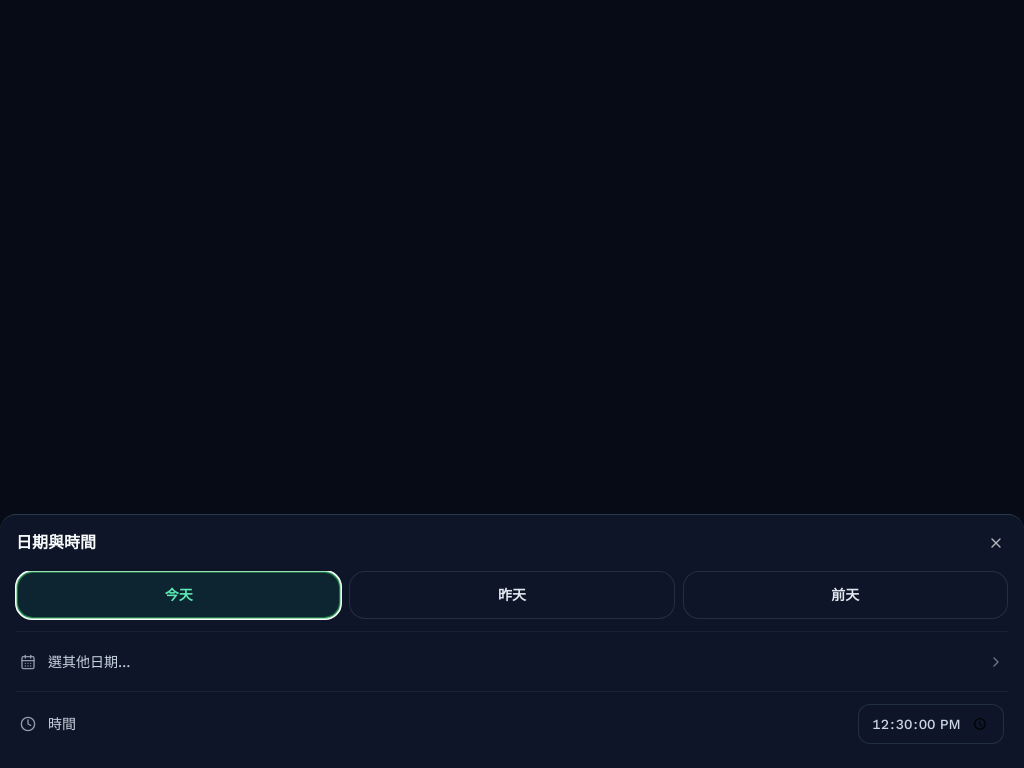
Test: QuickDateSheet › 預設不顯示日曆，點「選其他日期」才展開
Click the button "選其他日期…" at (89, 662), box [16, 631, 1008, 679]
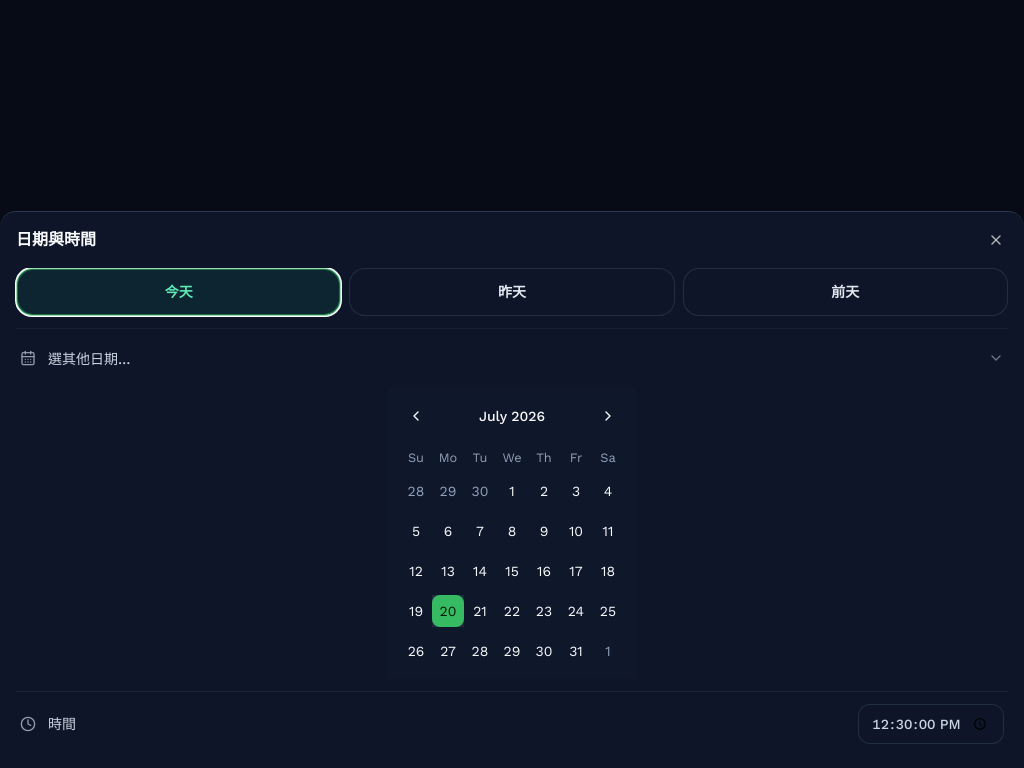
Now the table is shown, box [400, 448, 624, 667]
